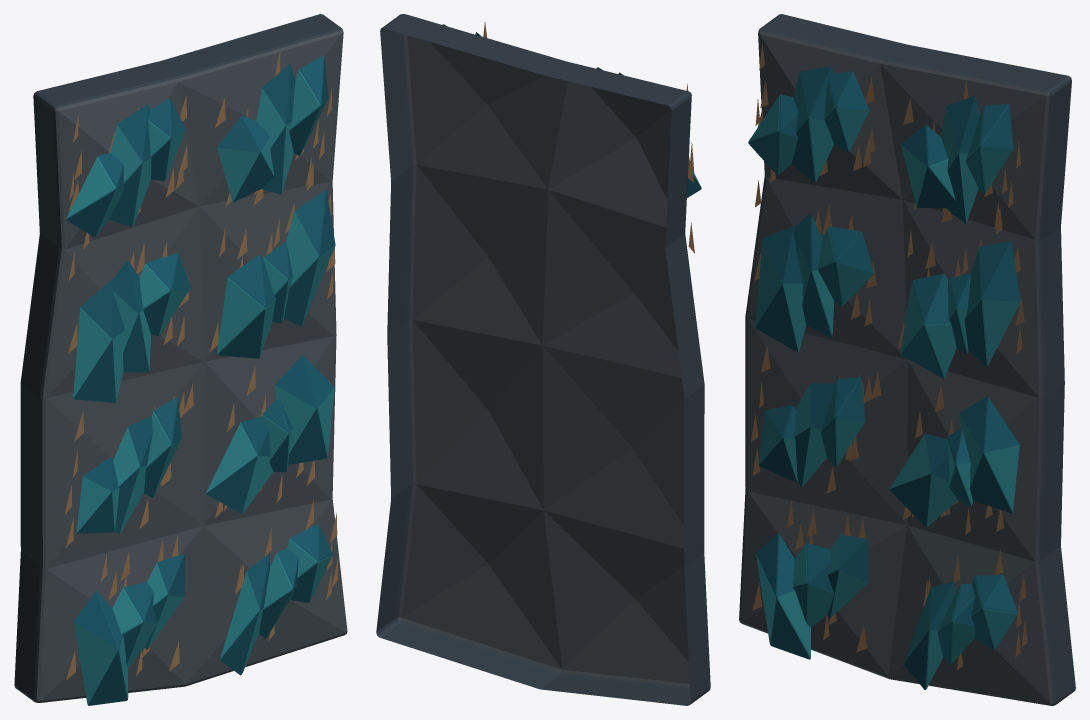
File: Board_robe.fbx
3 renders of one model, left to right at view 1: azimuth 30°, elevation 25°; view 2: azimuth 150°, elevation 25°; view 3: azimuth 330°, elevation 25°, orthographic.
Visible parts, largest first — view 1: Art_robe_stone, Art_robe_mineral_2_0, Art_robe_mineral_6_0, Art_robe_mineral_5_2, Art_robe_mineral_3_0, Art_robe_mineral_3_2, Art_robe_mineral_5_0, Art_robe_mineral_1_0, Art_robe_mineral_0_1, Art_robe_mineral_1_1, Art_robe_mineral_7_0, Art_robe_mineral_0_0 (+13 smaller); view 2: Art_robe_stone; view 3: Art_robe_stone, Art_robe_mineral_3_2, Art_robe_mineral_5_2, Art_robe_mineral_2_0, Art_robe_mineral_3_0, Art_robe_mineral_6_0, Art_robe_mineral_5_0, Art_robe_mineral_0_1, Art_robe_mineral_1_1, Art_robe_mineral_2_2, Art_robe_mineral_1_0, Art_robe_mineral_2_1 (+13 smaller).
Boxes of the visible parts, left/top/right/bottom form: Art_robe_stone: left=14, top=14, right=347, bottom=702; Art_robe_mineral_2_0: left=73, top=280, right=125, bottom=402; Art_robe_mineral_6_0: left=73, top=591, right=128, bottom=705; Art_robe_mineral_5_2: left=275, top=355, right=334, bottom=464; Art_robe_mineral_3_0: left=217, top=254, right=275, bottom=358; Art_robe_mineral_3_2: left=284, top=190, right=335, bottom=326; Art_robe_mineral_5_0: left=205, top=416, right=273, bottom=513; Art_robe_mineral_1_0: left=217, top=116, right=273, bottom=202; Art_robe_mineral_0_1: left=109, top=104, right=151, bottom=226; Art_robe_mineral_1_1: left=256, top=63, right=295, bottom=194; Art_robe_mineral_7_0: left=220, top=554, right=270, bottom=675; Art_robe_mineral_0_0: left=66, top=153, right=124, bottom=237; Art_robe_stone: left=376, top=14, right=710, bottom=705; Art_robe_stone: left=739, top=14, right=1075, bottom=705; Art_robe_mineral_3_2: left=964, top=241, right=1020, bottom=366; Art_robe_mineral_5_2: left=959, top=396, right=1019, bottom=513; Art_robe_mineral_2_0: left=755, top=226, right=805, bottom=352; Art_robe_mineral_3_0: left=900, top=273, right=956, bottom=378; Art_robe_mineral_6_0: left=756, top=533, right=810, bottom=659; Art_robe_mineral_5_0: left=889, top=434, right=957, bottom=527; Art_robe_mineral_0_1: left=791, top=66, right=833, bottom=182; Art_robe_mineral_1_1: left=941, top=96, right=979, bottom=223; Art_robe_mineral_2_2: left=818, top=226, right=874, bottom=306; Art_robe_mineral_1_0: left=901, top=125, right=955, bottom=208; Art_robe_mineral_2_1: left=793, top=214, right=833, bottom=337.
Size of the model in its own units: 214 by 408 by 52.2.
